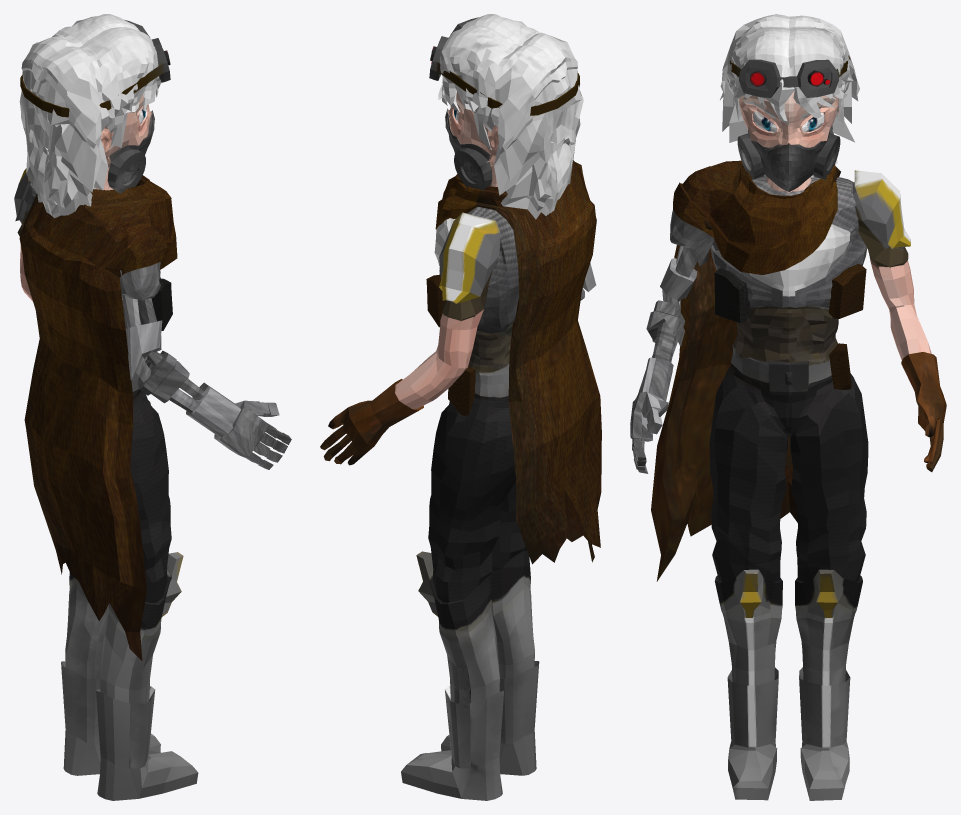
The model's file is p1character.FBX.
3 views of the same model, side by side, from view 1: azimuth 30°, elevation 25°; view 2: azimuth 150°, elevation 25°; view 3: azimuth 270°, elevation 25° (orthographic).
Visible parts, largest first — view 1: Object001; view 2: Object001; view 3: Object001.
Boxes of the visible parts, <box> form: Object001: <box>14,14,291,800</box>; Object001: <box>320,14,601,800</box>; Object001: <box>630,14,946,800</box>.
Bounding box in the file's own units: 246 × 963 × 373.
1 material, 1 textured.
